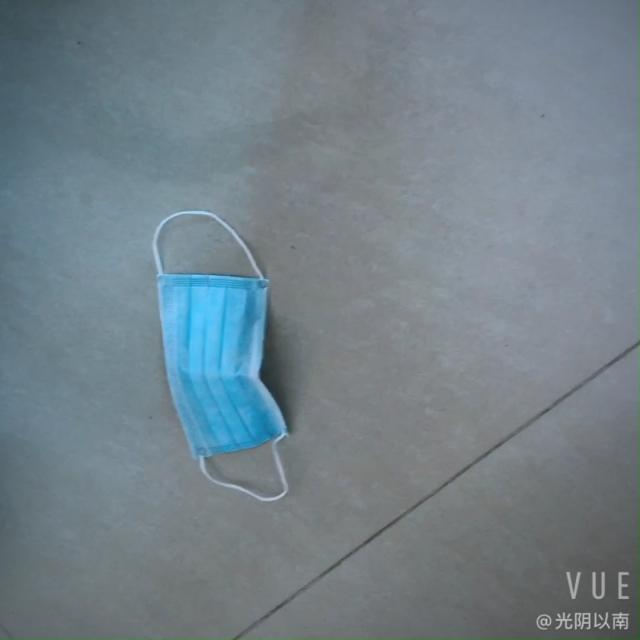non-organic waste: (155, 208, 303, 501)
